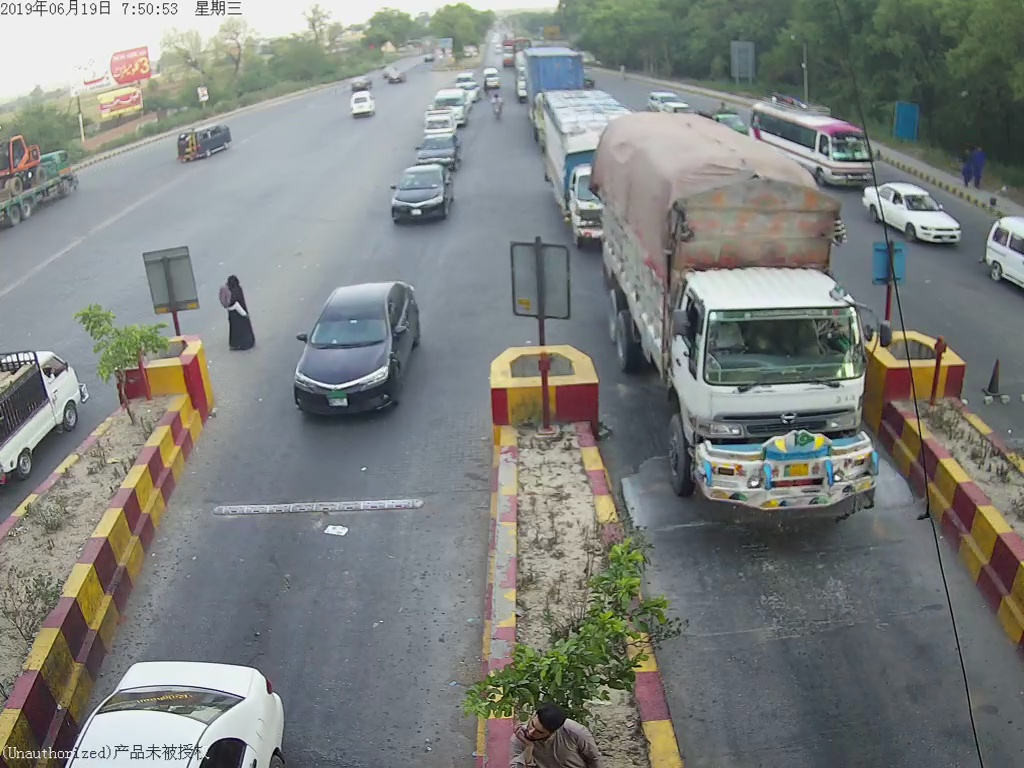Cat-1: (287, 269, 424, 424), (387, 159, 458, 229)
Cat-4: (616, 123, 885, 520), (532, 83, 632, 247)
